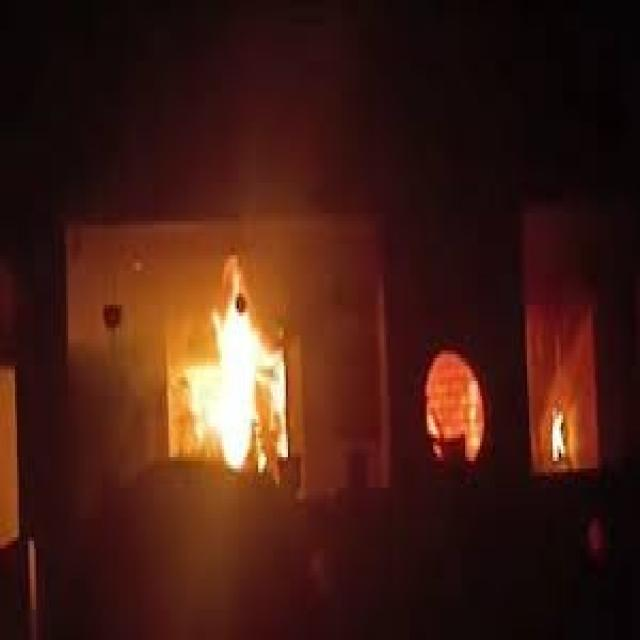fire: (211, 255, 282, 366), (222, 365, 254, 471), (189, 366, 223, 429), (466, 378, 481, 460)
